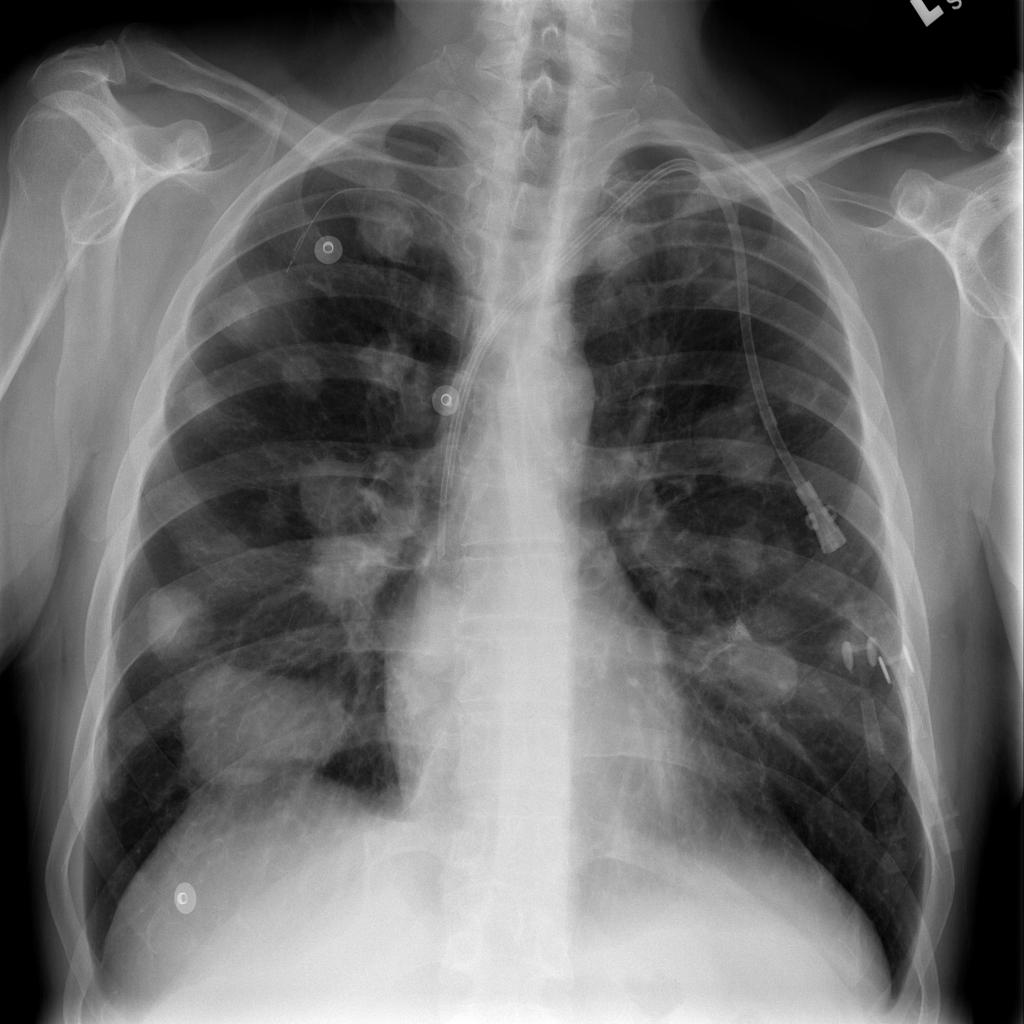nodule: (155, 646, 378, 809), (285, 497, 412, 636), (686, 603, 823, 724), (197, 246, 313, 367), (118, 565, 232, 680), (681, 389, 787, 497), (578, 212, 661, 291), (346, 319, 422, 401), (294, 449, 376, 525), (349, 189, 428, 267), (263, 334, 337, 413), (167, 361, 235, 436), (718, 513, 786, 588)
